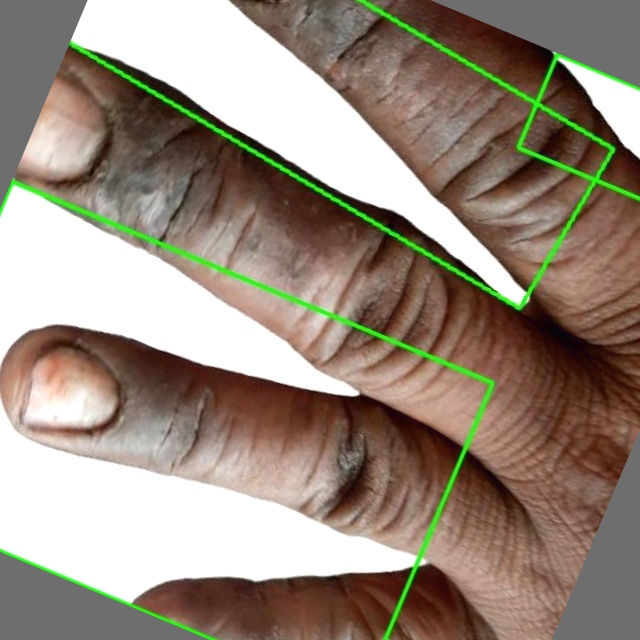Eczema: (0, 181, 492, 639), (71, 0, 615, 308)
